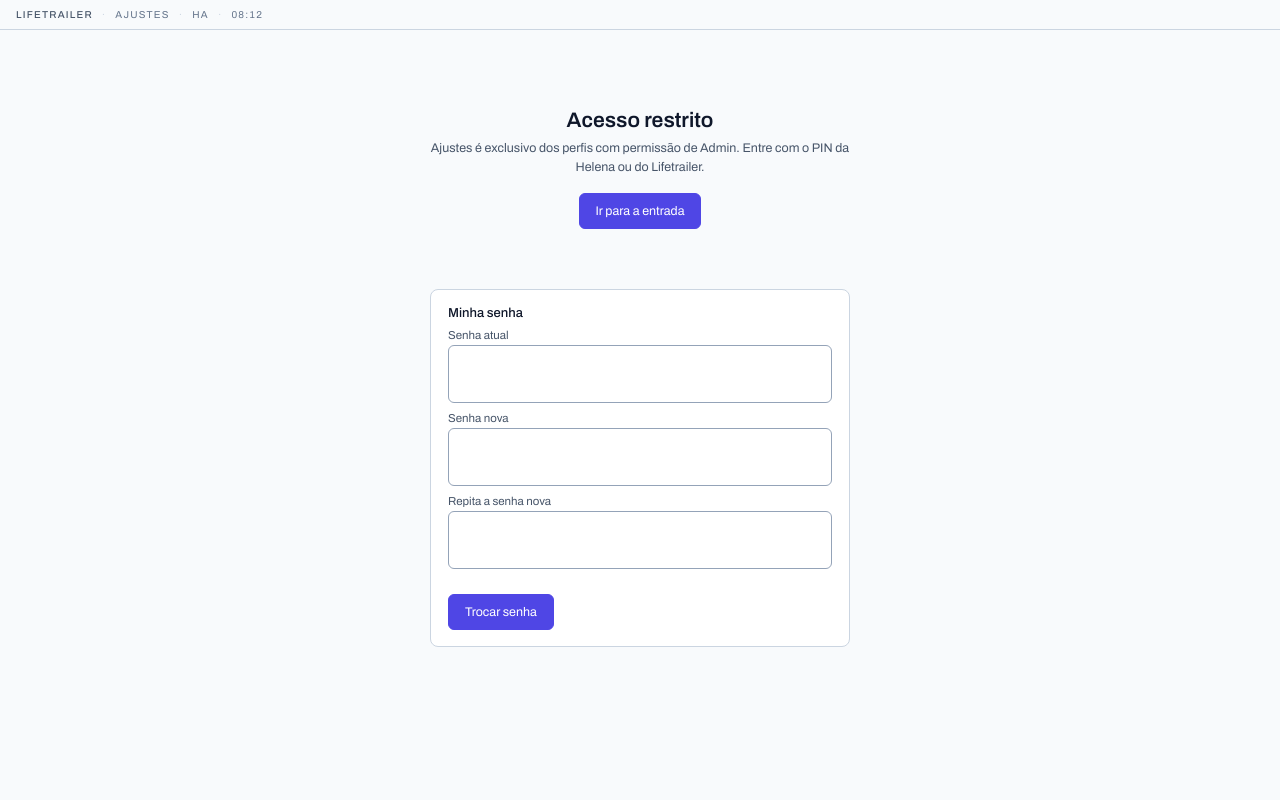
it: minha senha: a tela restrita também deixa trocar a própria, e manda atual e nova
Type "a-senha-de-hoje" into the password field labelled "Senha atual" at (640, 374), box [448,344,832,402]
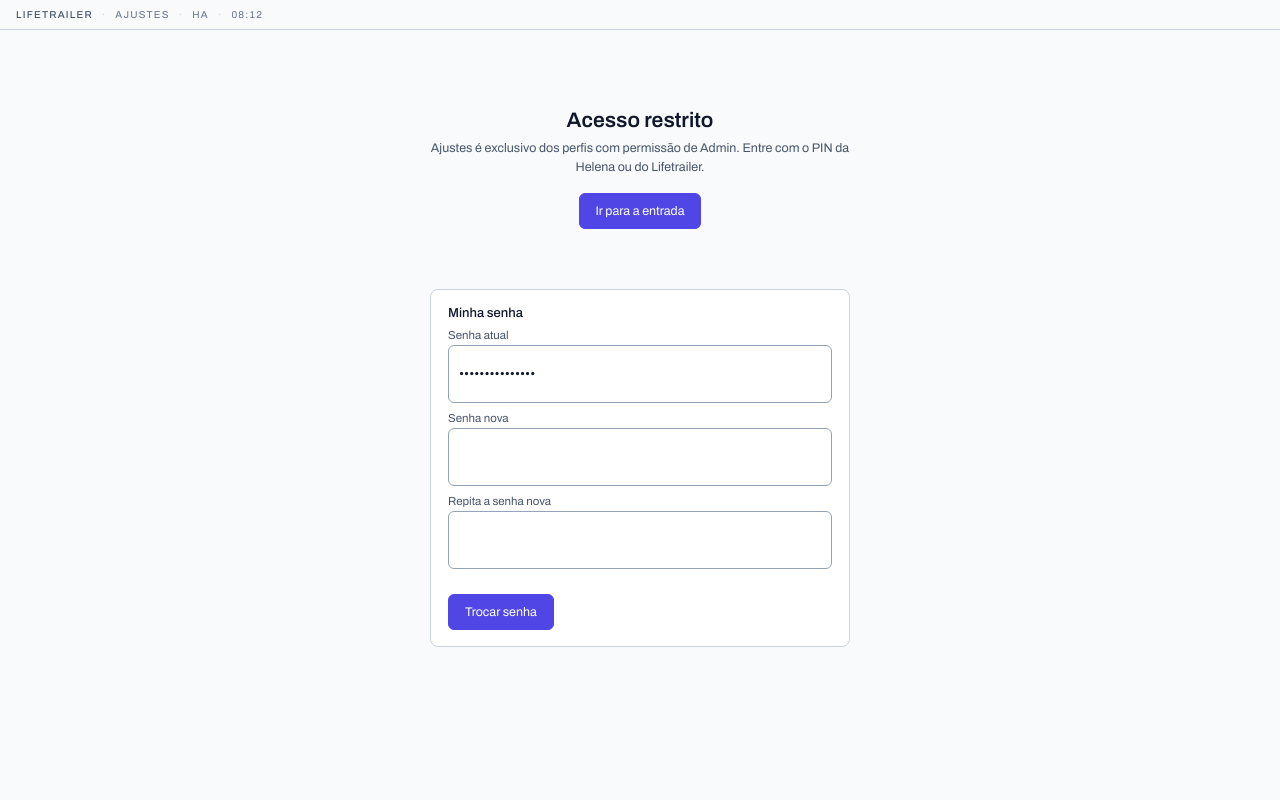
Type "a-senha-de-amanha" into the password field labelled "Senha nova" at (640, 456), box [448,428,832,486]
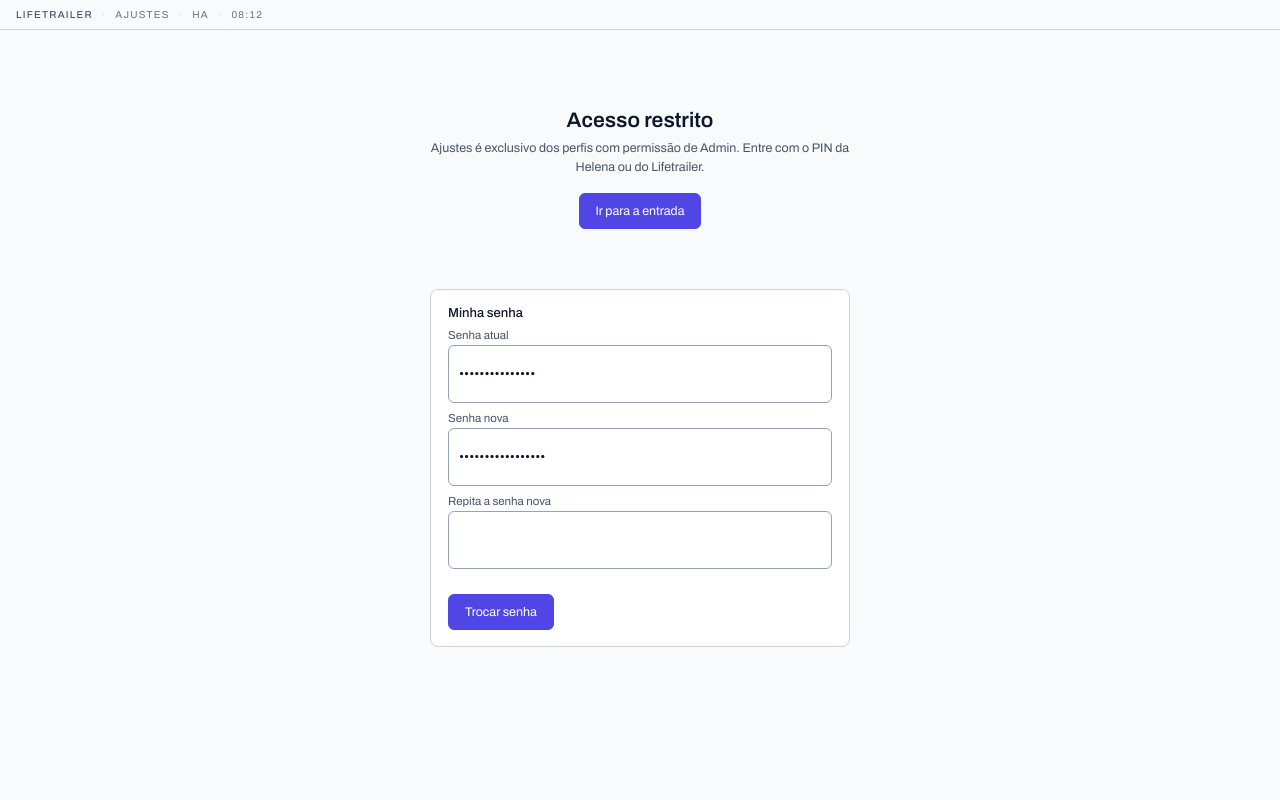
Type "a-senha-de-amanha" into the password field labelled "Repita a senha nova" at (640, 540), box [448,510,832,568]
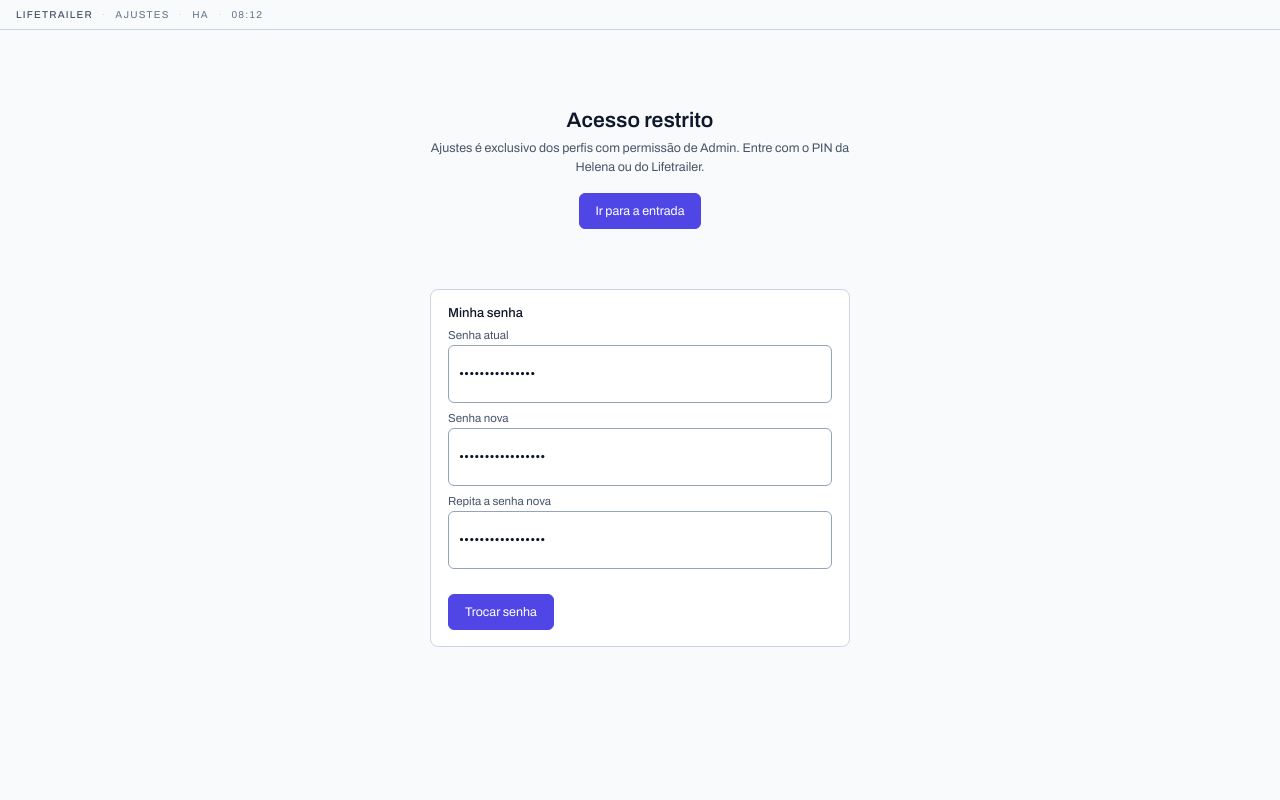
Click the button "Trocar senha" at (501, 612), box [448,594,554,630]
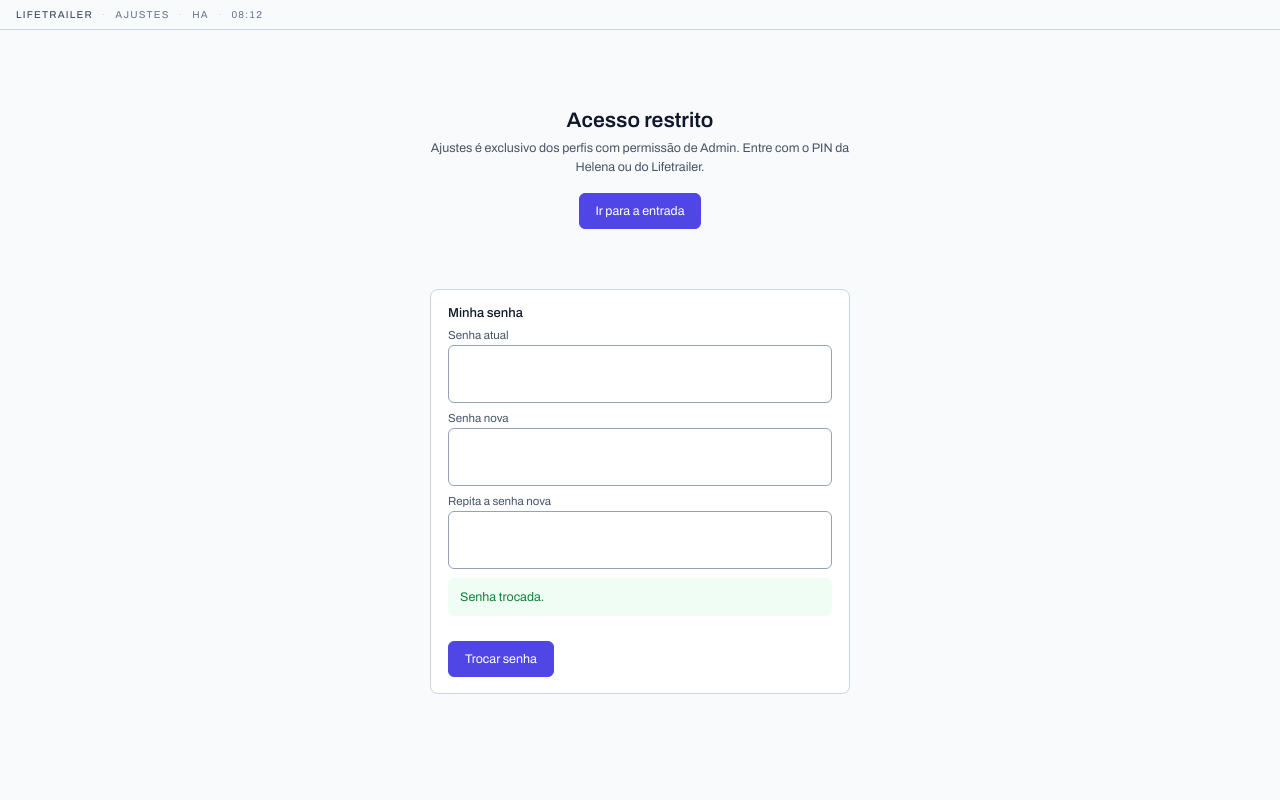
Now the text "Senha trocada." is shown, box [448,578,832,616]
Now the password field labelled "Senha atual" is empty, box [448,344,832,402]
